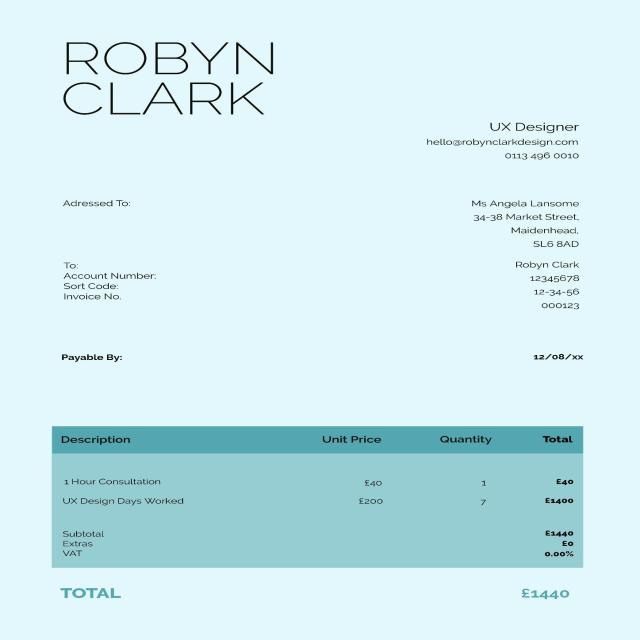paragraph: (42, 185, 601, 251), (39, 258, 607, 311), (42, 26, 282, 123), (38, 341, 592, 382), (49, 582, 592, 606), (406, 111, 600, 167)
table: (41, 420, 593, 572)
